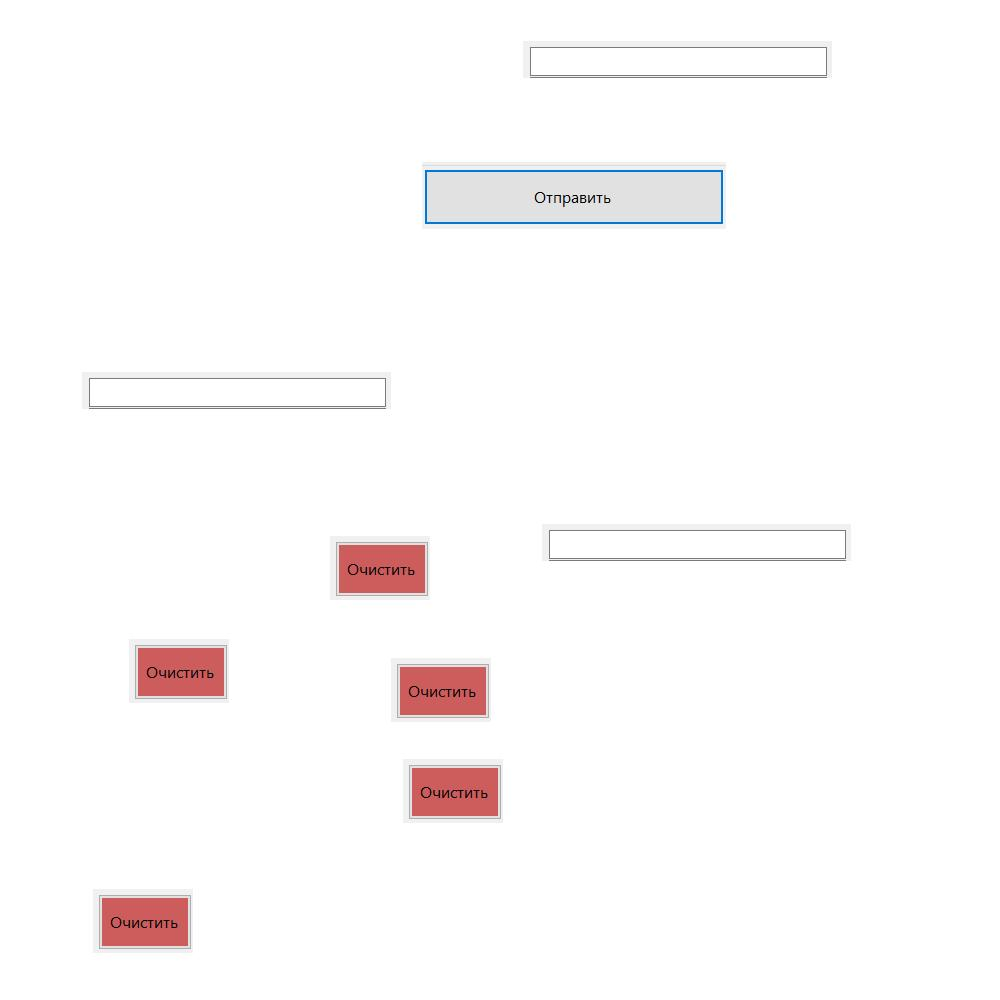Button: (422, 162, 726, 229), (330, 536, 430, 600), (391, 658, 491, 722), (403, 759, 503, 823), (129, 639, 229, 703), (93, 889, 193, 953)
EditText-: (542, 524, 851, 561), (523, 41, 832, 78), (82, 372, 391, 409)
